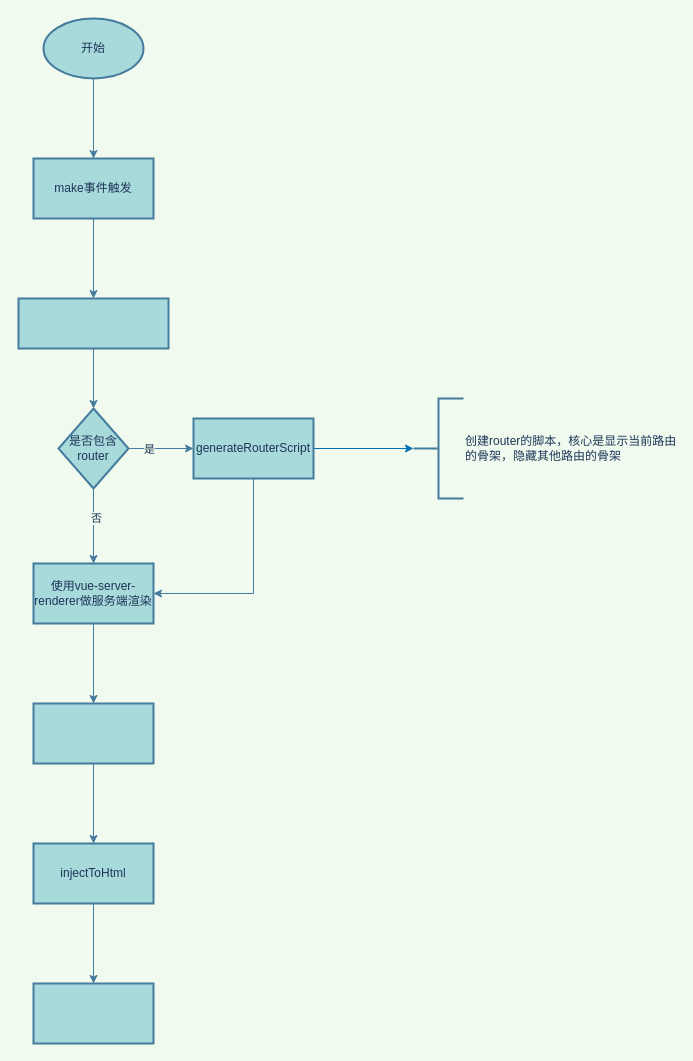
The diagram is 693 pixels wide and 1061 high, and some of its shapes have lost their labels. Here are the shapes that lost their labels. From the top down, the centre of each, then its label:
At [93,323]: "执行generateSkeletonForEntries".
At [93,733]: "触发html-webpack-plugin-before-html-processing事件".
At [93,1013]: "输出html".
